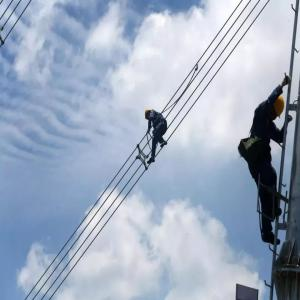yellow: (271, 95, 285, 121), (145, 108, 151, 120)
